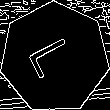L_NE: (26, 32, 83, 83)
